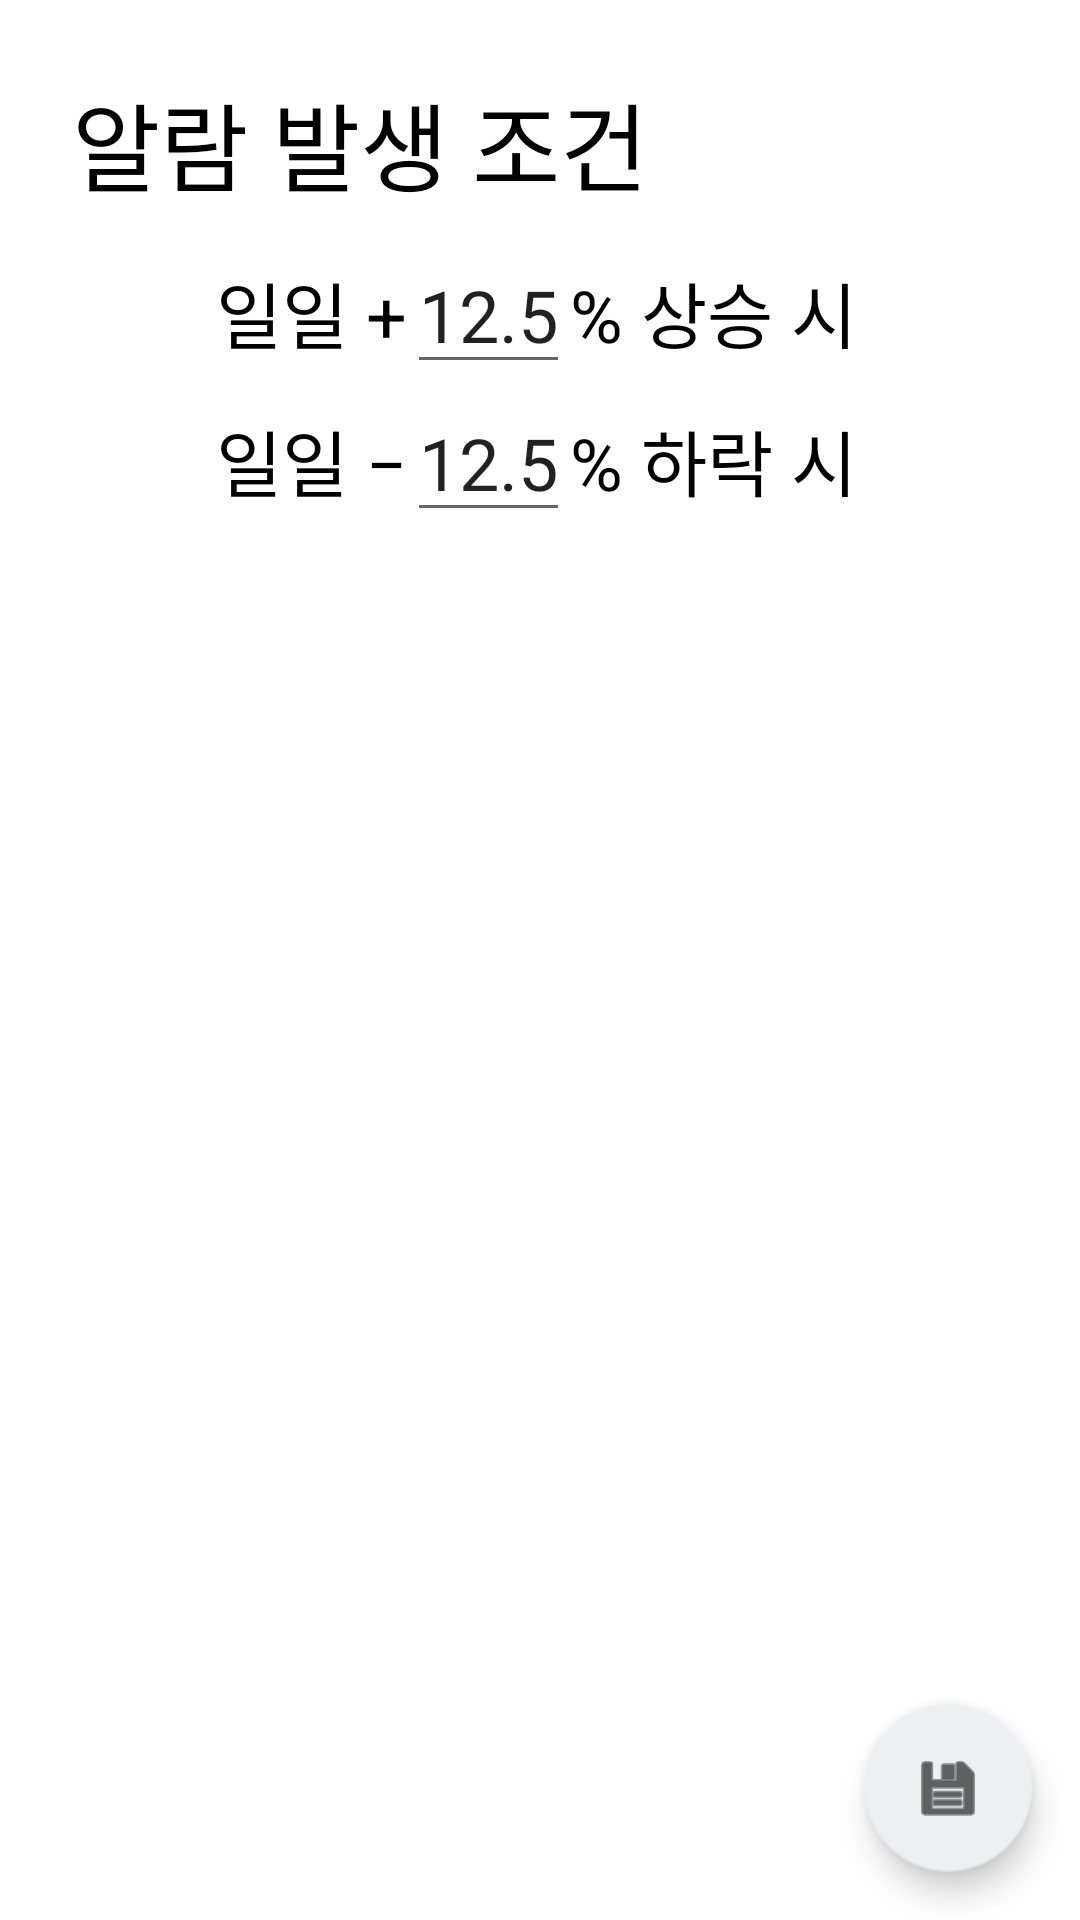

Screen size 1080w x 1920h. Icon name, then its box in pixels as (x1, y1, x2, y2):
save: (921, 1761, 975, 1816)
